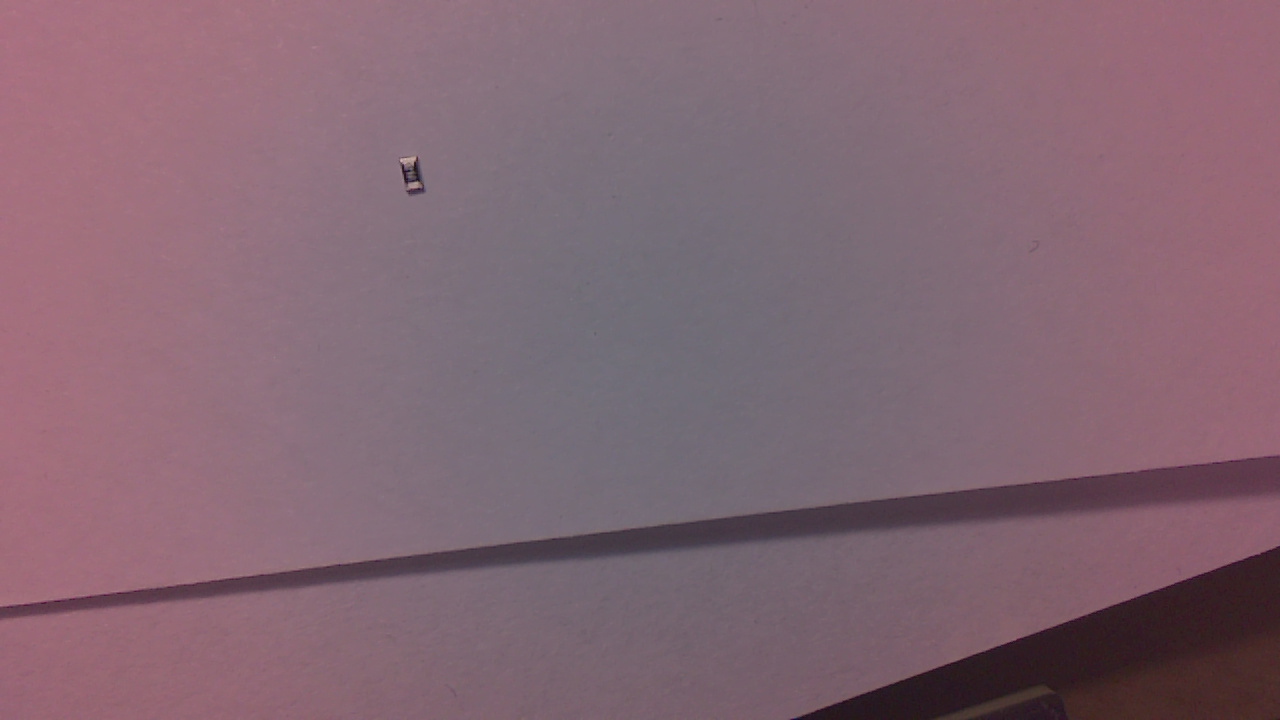Resistor: (402, 160, 432, 203)
